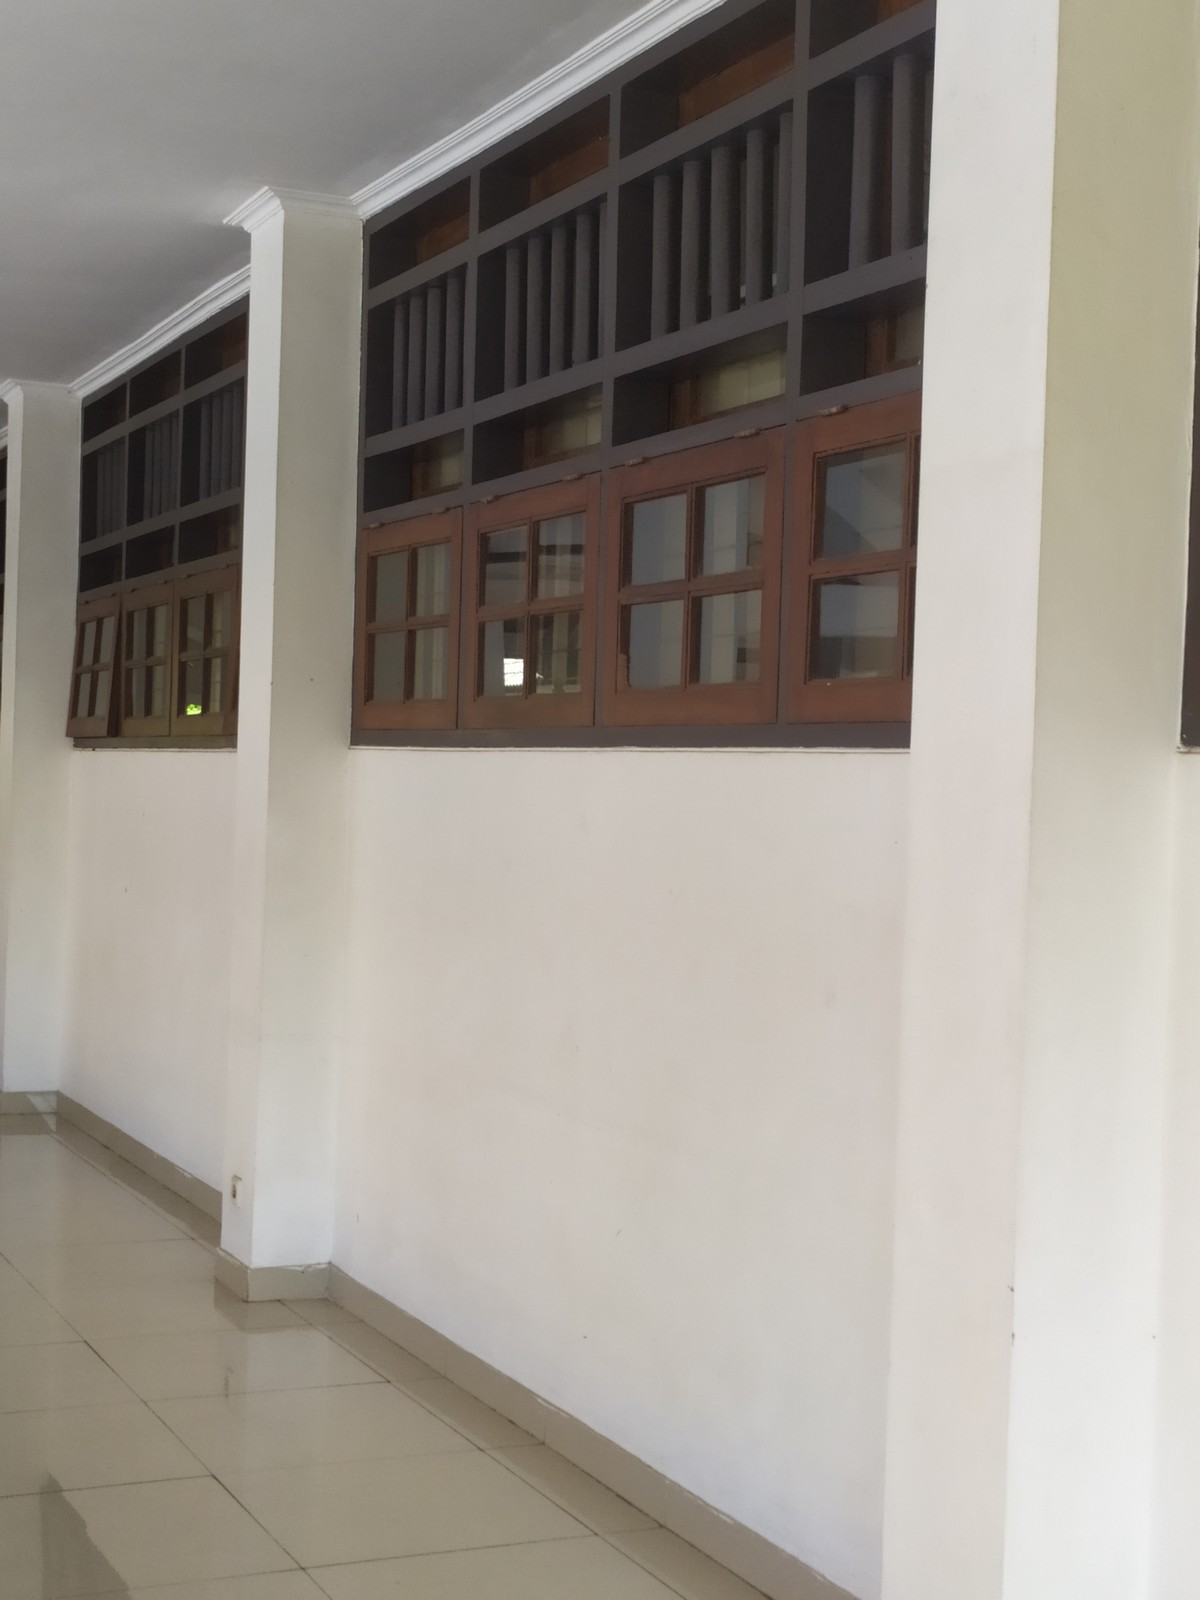concrete column: (855, 45, 1197, 1595), (205, 202, 372, 1311)
